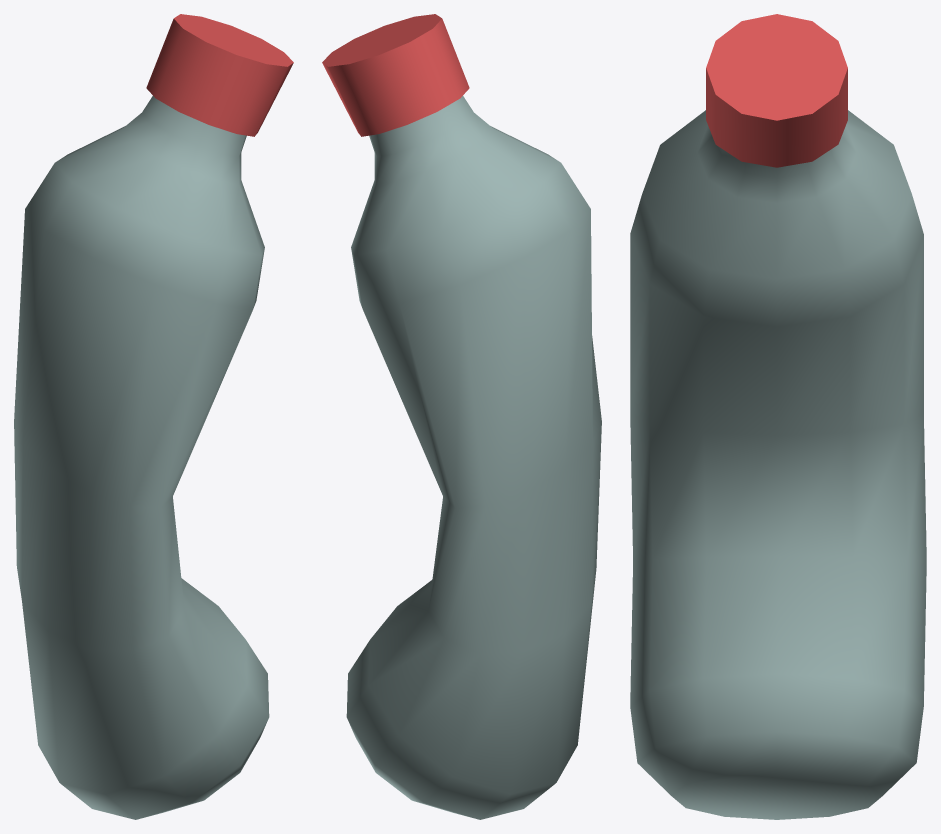
Rendered from bottle2.fbx.
3 views of the same model, side by side, from view 1: azimuth 30°, elevation 25°; view 2: azimuth 150°, elevation 25°; view 3: azimuth 270°, elevation 25° (orthographic). The views are drawn at different scales.
Parts seen in each view (by area): view 1: Circle.001; view 2: Circle.001; view 3: Circle.001.
Boxes of the visible parts, bbox=[...] form: Circle.001: bbox=[14, 14, 293, 819]; Circle.001: bbox=[322, 14, 601, 819]; Circle.001: bbox=[630, 14, 926, 819].
Size of the model in its own units: 9.41 by 28.62 by 9.22.
Materials: 1 (1 with a texture image).
